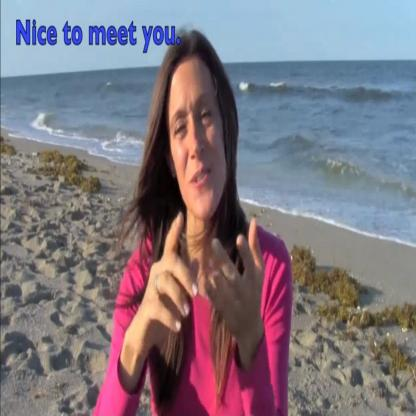NiceToMeetYou: (131, 206, 270, 356)
